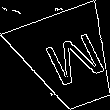M_SE: (32, 28, 105, 92)
